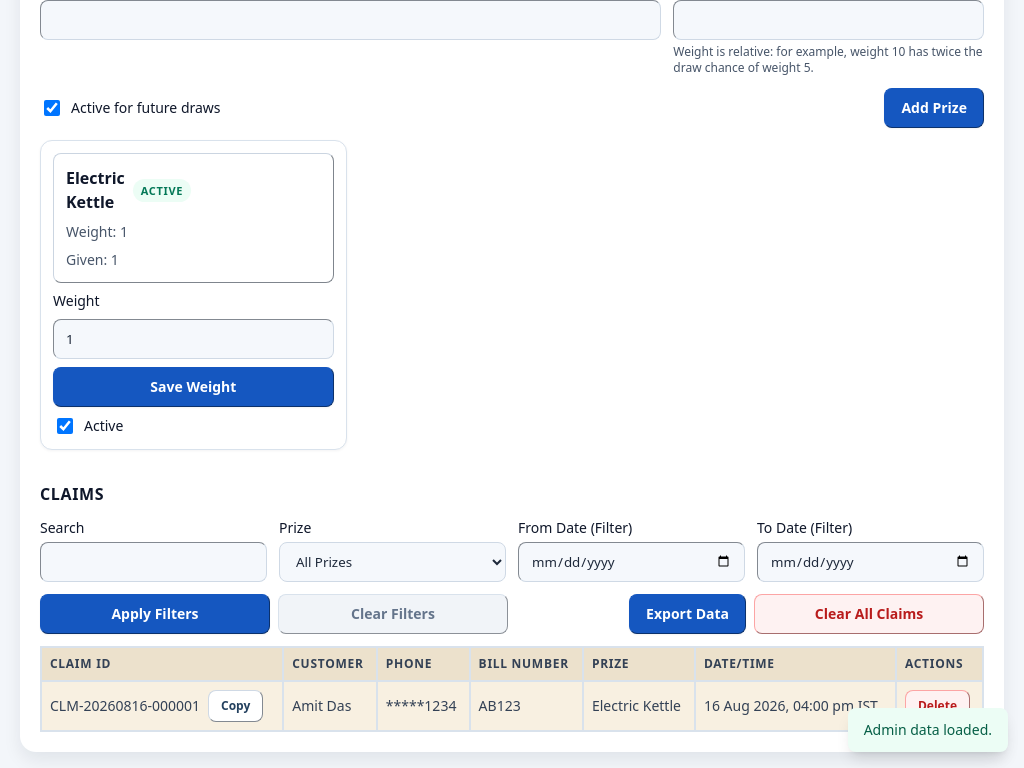
admin operations page › cancels the export dialog without requesting a file
This screenshot has width=1024, height=768.
(page scrolled)
Click the button "Export Data" at (688, 614), box [629,594,746,634]
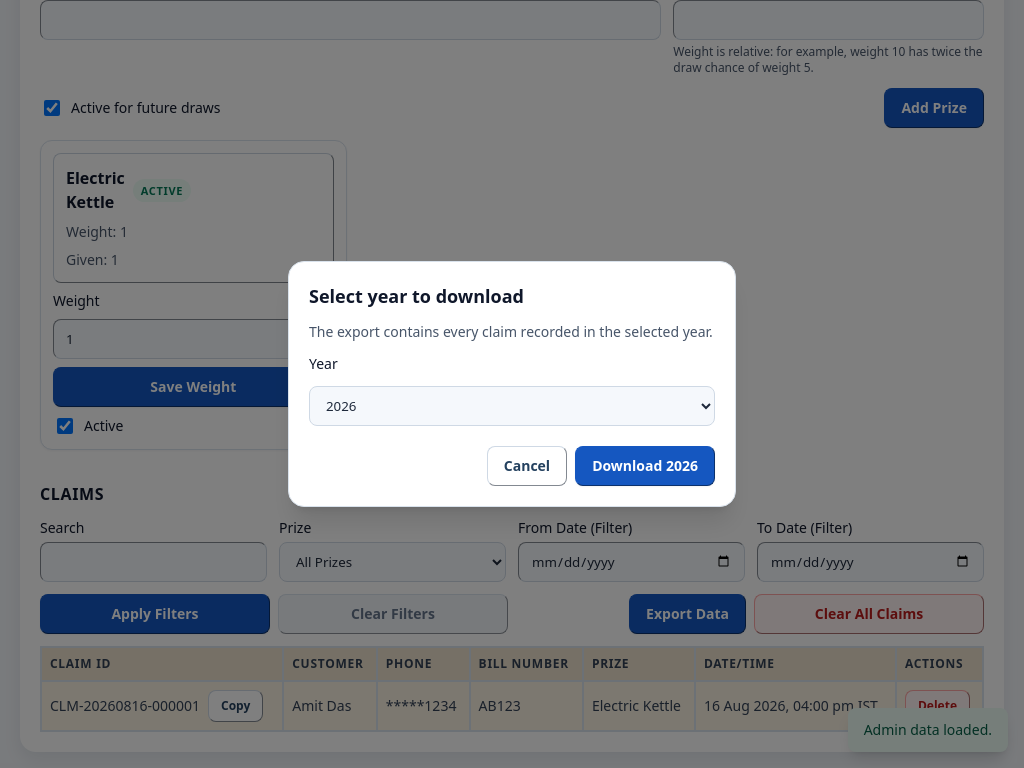
Check: the heading "Select year to download" is shown, box [309,284,524,308]
Click the button "Cancel" at (527, 466), box [487,446,567,486]
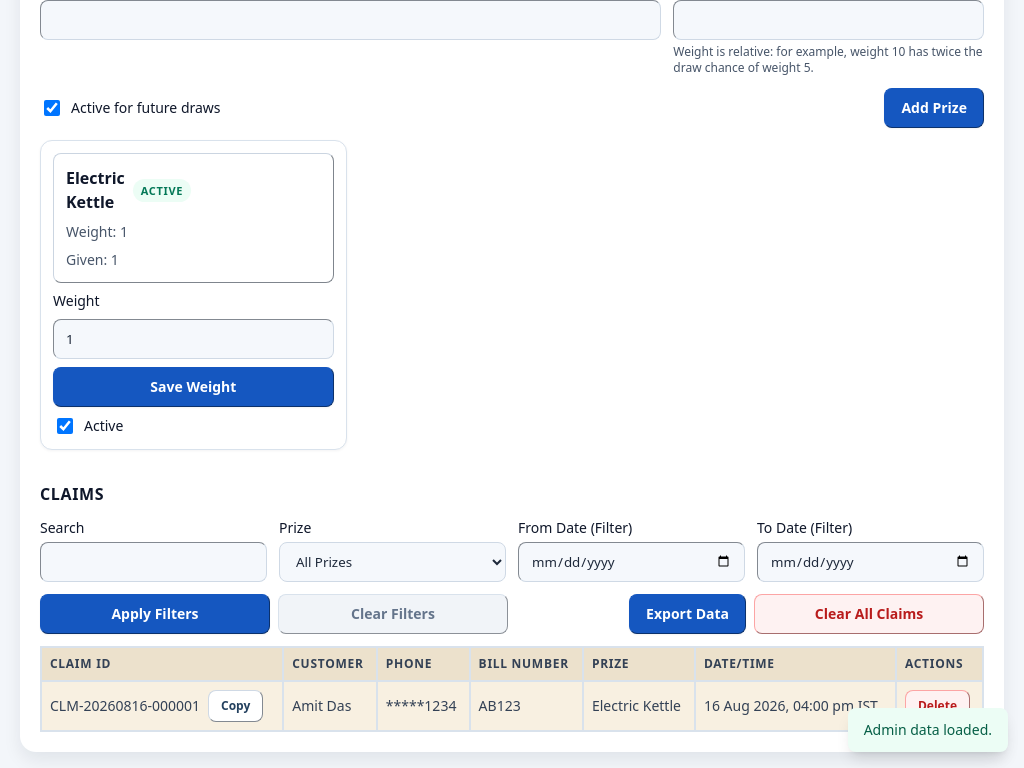
Check: the heading "Select year to download" is gone
